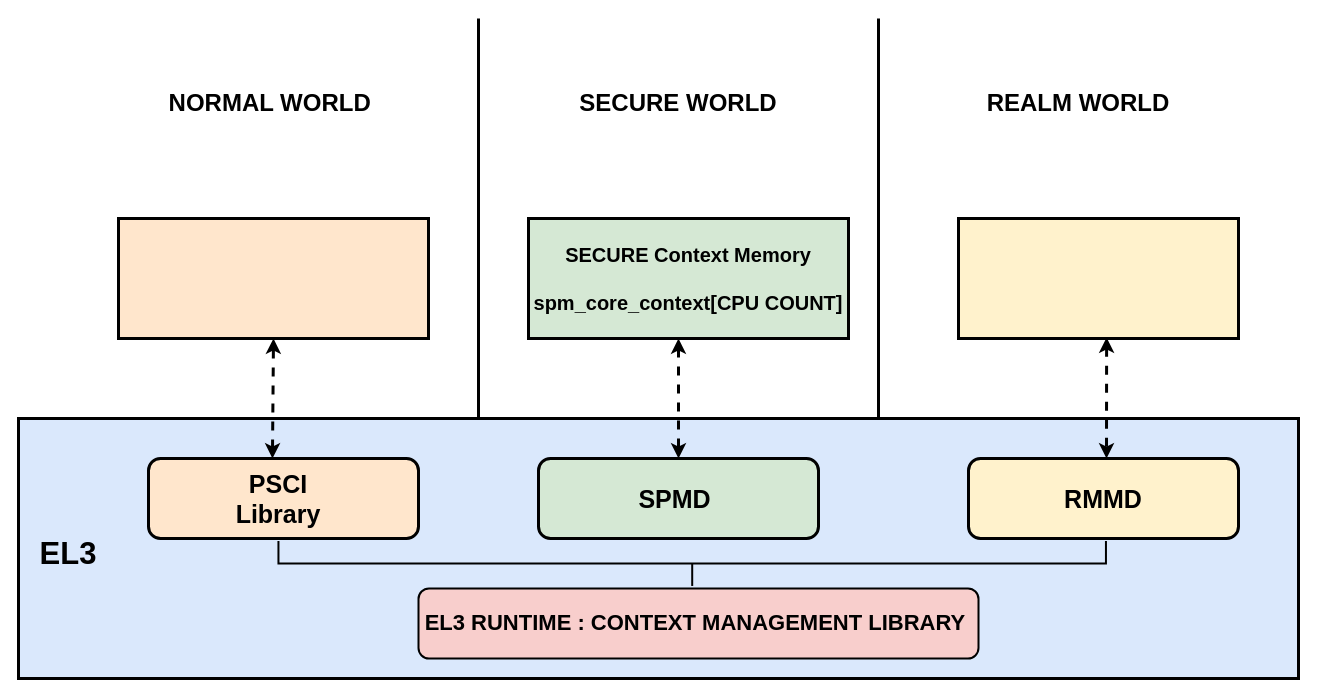
This 1317x697 diagram has some shape labels left out. The centre of each missing label's shape, as x and y in pixels:
"NON-SECURE Context Memory psci_ns_context[ CPU COUNT]" belongs at (273,278).
"REALM Context Memory rmm_context[CPU COUNT]" belongs at (1098,278).
